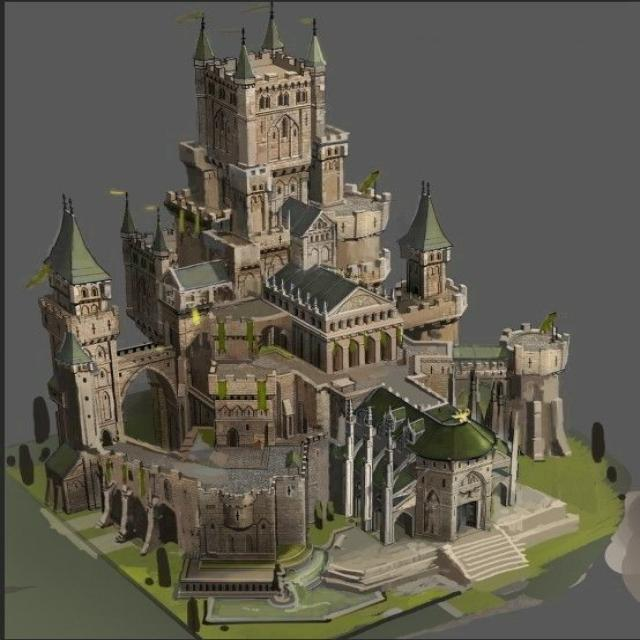castle: (13, 8, 627, 624)
